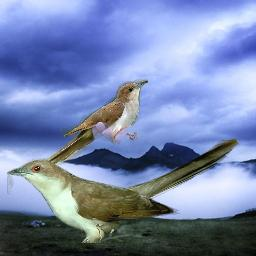Cuckoo: (7, 137, 239, 243), (37, 79, 148, 167)
